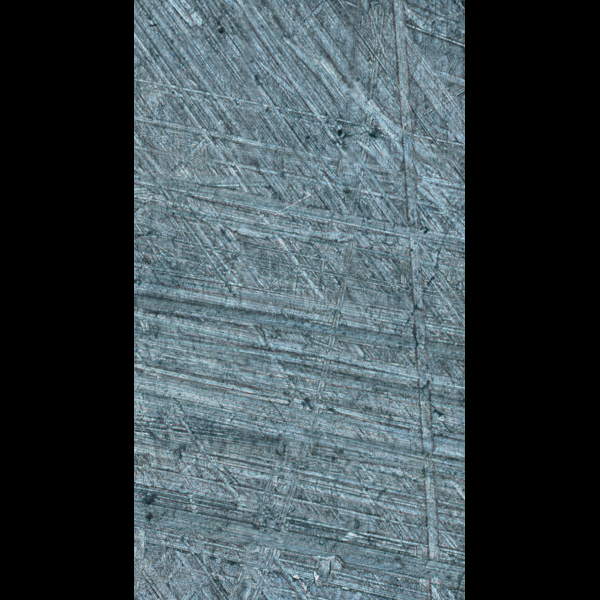d: (221, 0, 394, 599), (135, 166, 465, 304), (385, 0, 456, 600)
